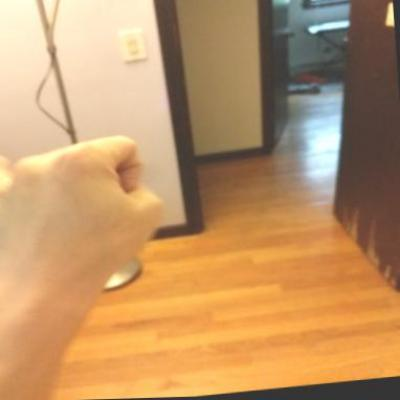hand: (0, 125, 183, 294)
